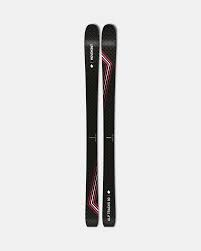skis: (82, 25, 120, 228)
